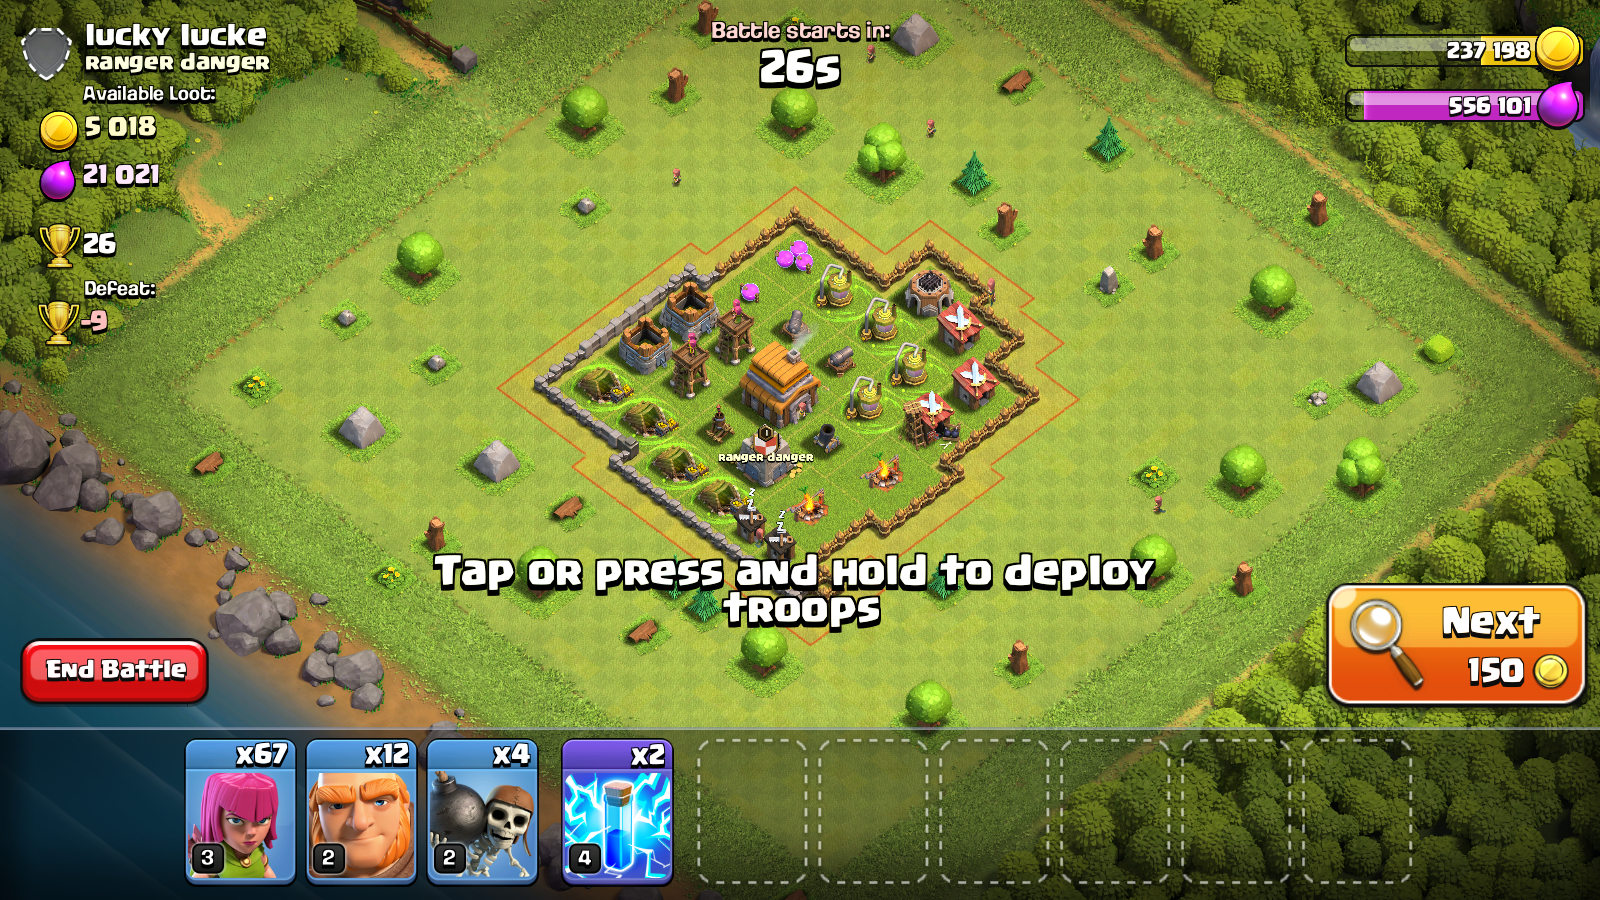end_battle: (19, 641, 211, 708)
loot_details: (1, 1, 348, 362)
next_searchbase: (1329, 590, 1587, 705)
troop_not_selected_message: (424, 547, 1163, 638)
